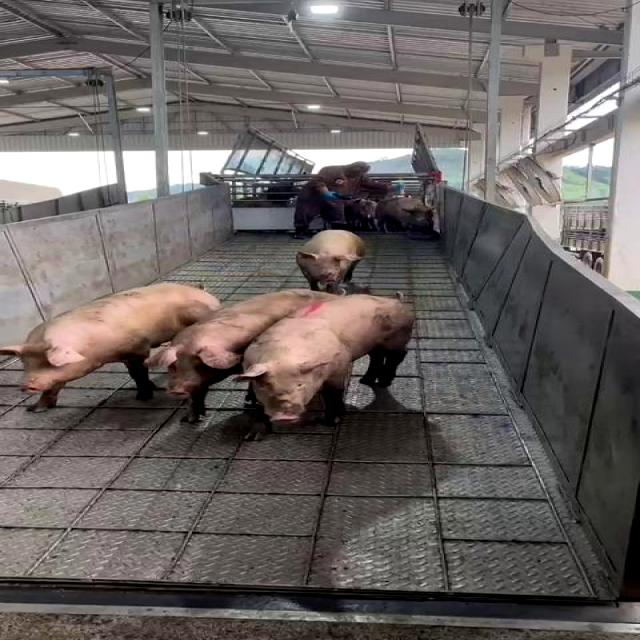pig: (0, 284, 220, 411), (236, 294, 415, 439), (149, 289, 339, 422), (296, 230, 371, 294), (376, 196, 433, 239)
